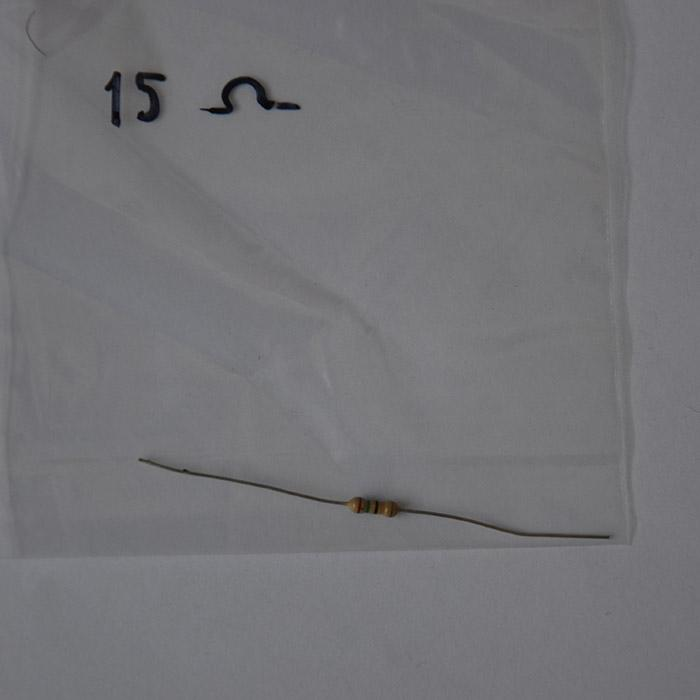resistor: (347, 496, 398, 517)
